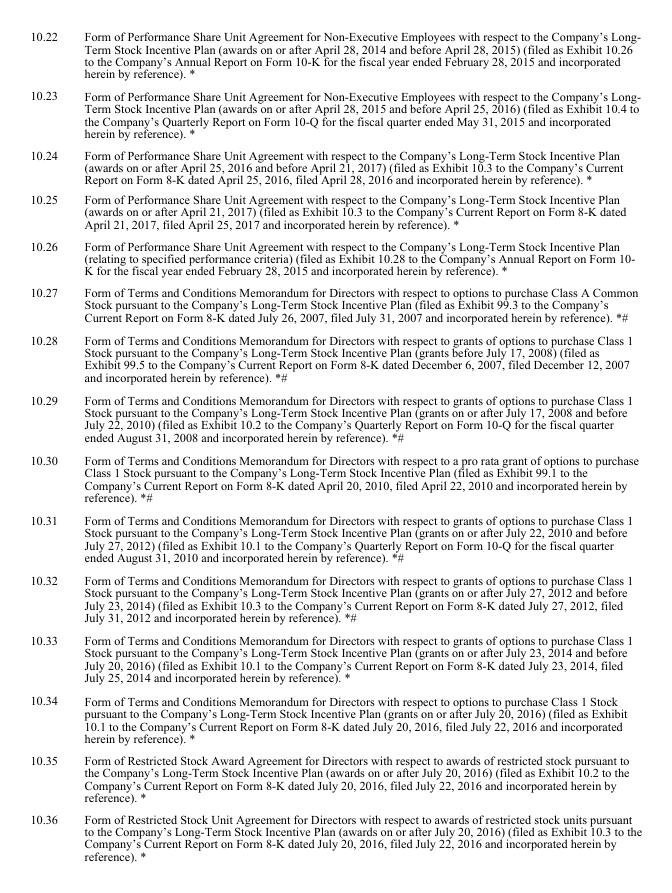table: (29, 29, 641, 862)
table column: (70, 29, 641, 862), (29, 29, 70, 862)
table row: (29, 83, 641, 143), (29, 328, 641, 388), (29, 388, 641, 448), (29, 448, 641, 508), (29, 508, 641, 568), (29, 568, 641, 628), (29, 628, 641, 688), (29, 688, 641, 748), (29, 748, 641, 807), (29, 807, 641, 862), (29, 29, 641, 83), (29, 234, 641, 281), (29, 281, 641, 328), (29, 143, 641, 189), (29, 189, 641, 234)
